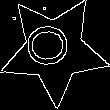O_E: (29, 27, 80, 73)
